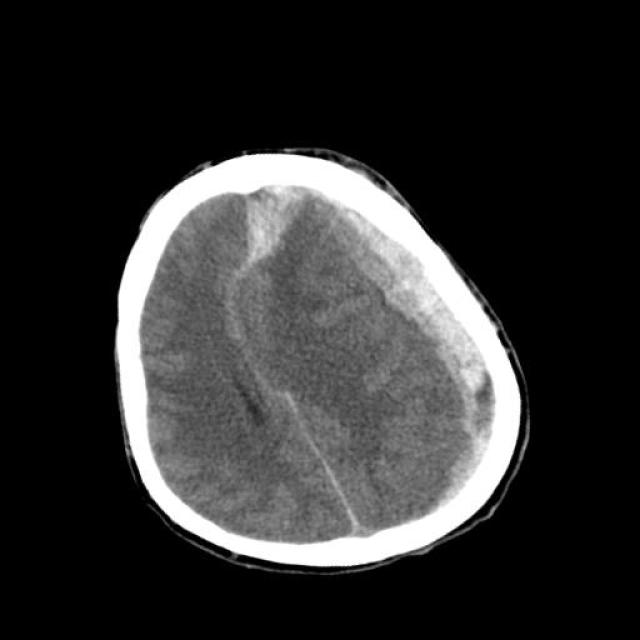Subdural: (299, 130, 576, 521), (212, 168, 328, 290)
